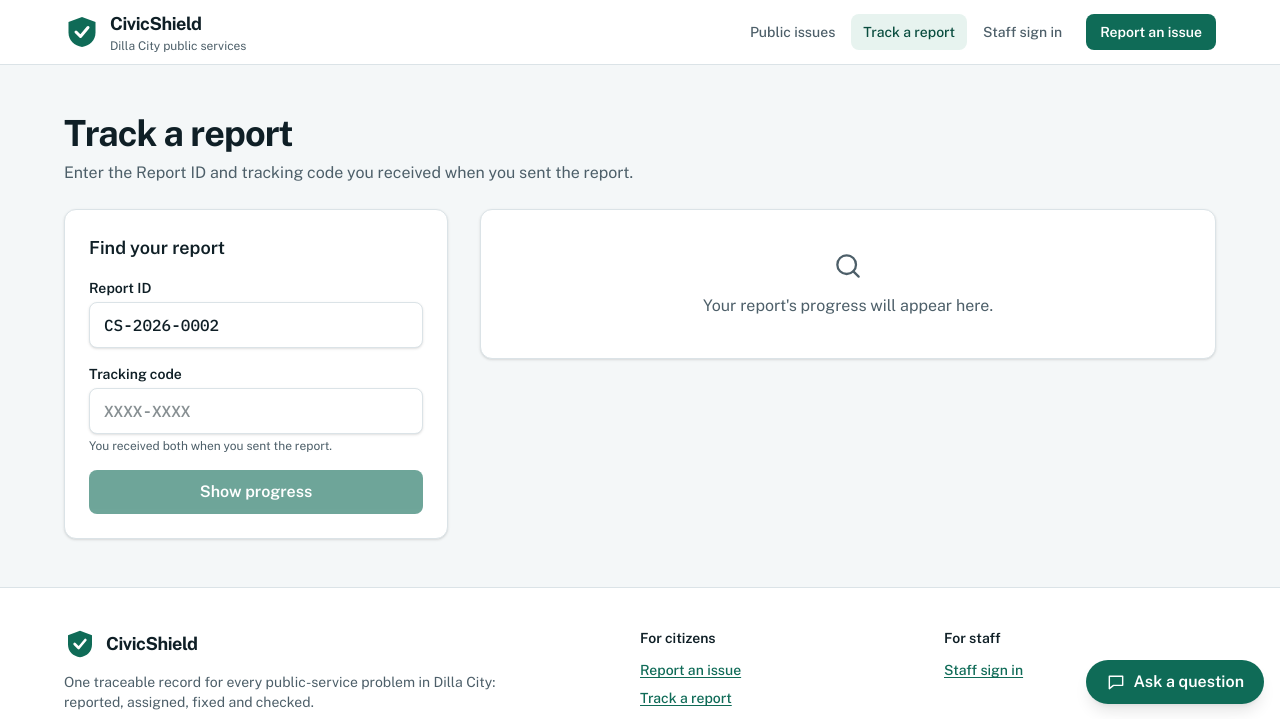
Test: citizen flow › refuses a wrong tracking code
Type "WRONG-CODE" into the field labelled "Tracking code" at (256, 411), box [89, 388, 423, 434]
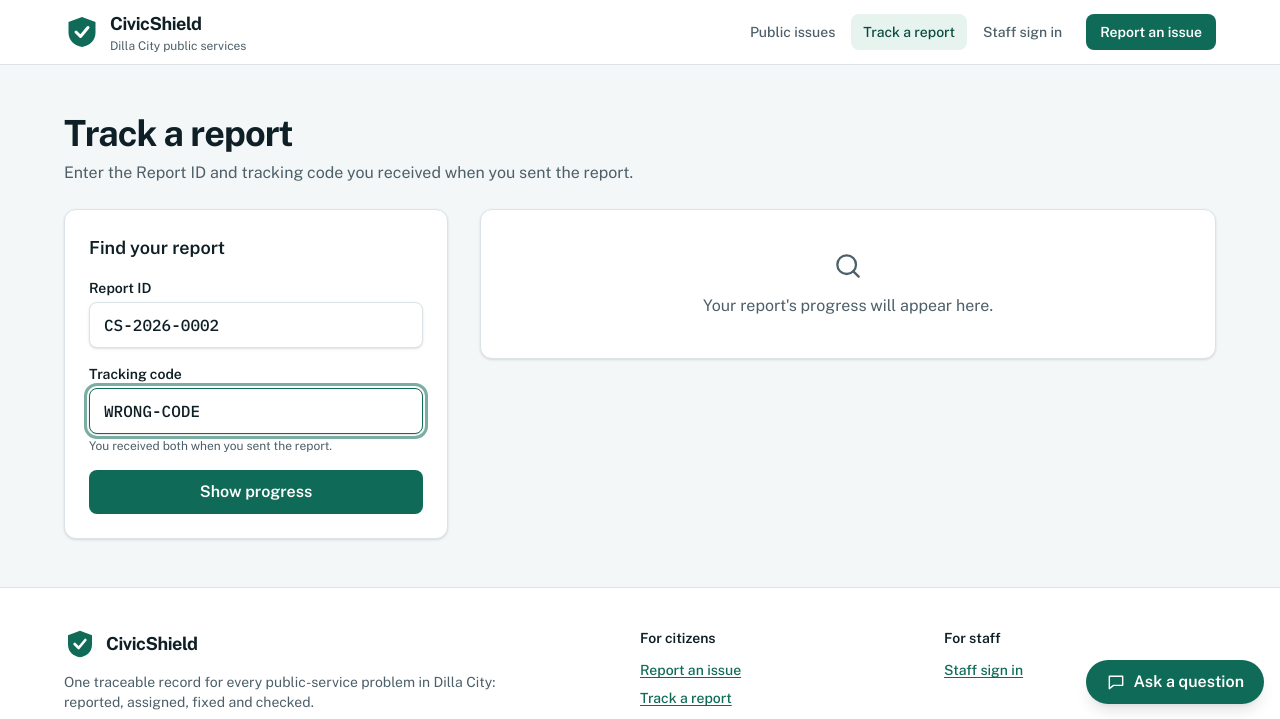
Click the button "Show progress" at (256, 492), box [89, 470, 423, 514]
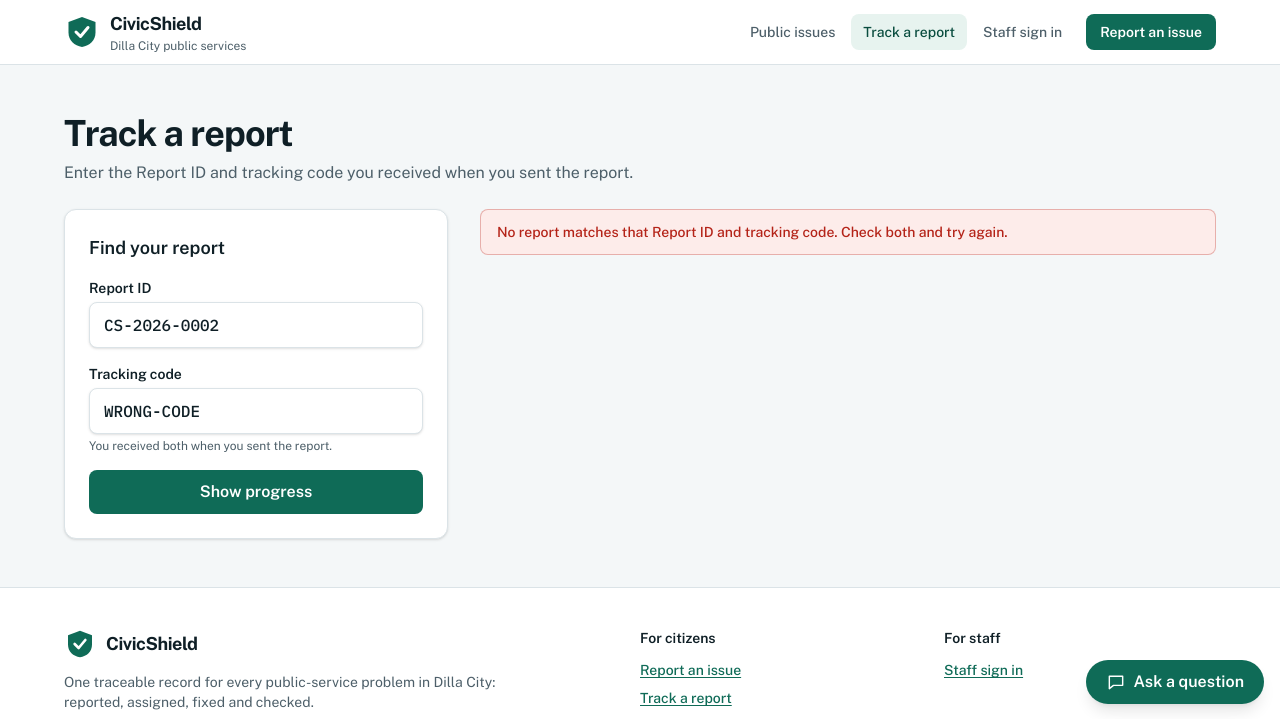
Check: the message shows "No report matches", box [497, 224, 1008, 240]
